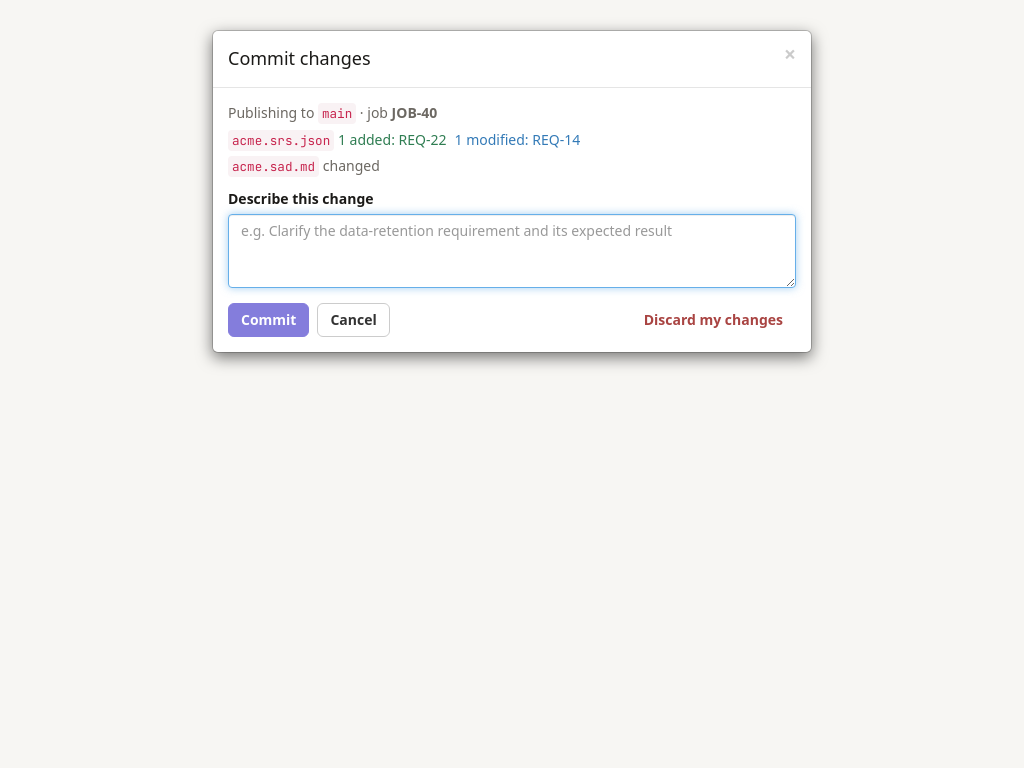
Scenario: CommitDialog — refusals (CMT-4) › shows a plain refusal message when there is no gate detail
Replace the text in the text box labelled "Describe this change" with "x" at {"x": 512, "y": 252}, box x1=228 y1=214 x2=796 y2=288
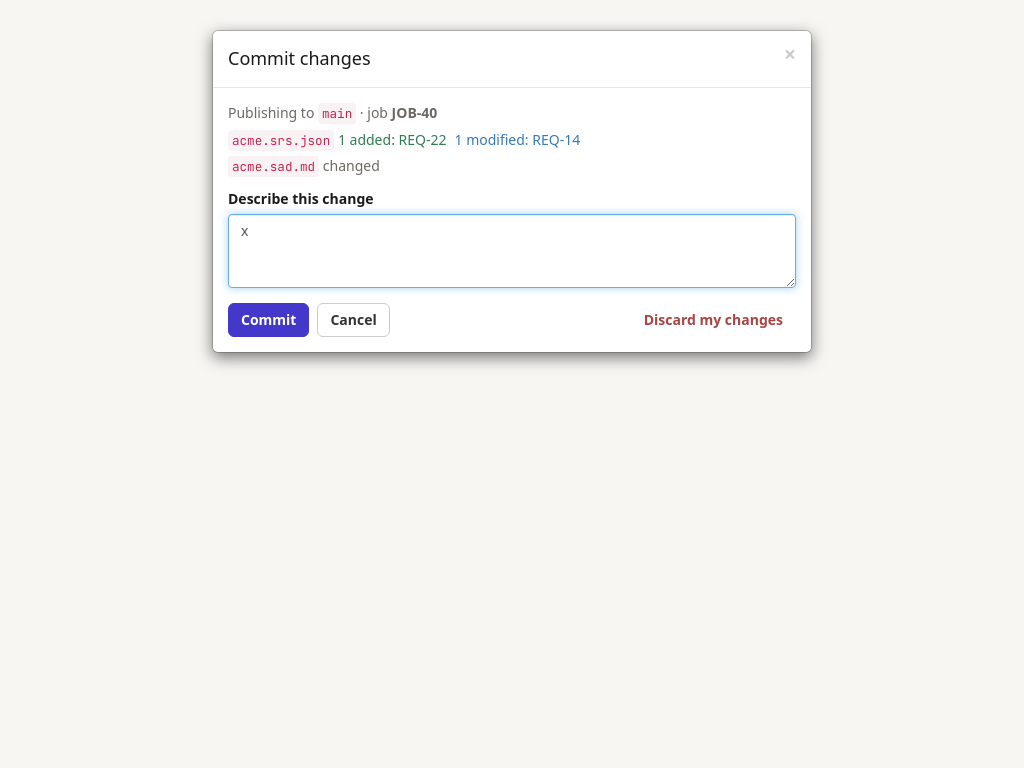
Click the button "Commit" at {"x": 269, "y": 320}, box x1=228 y1=304 x2=309 y2=338
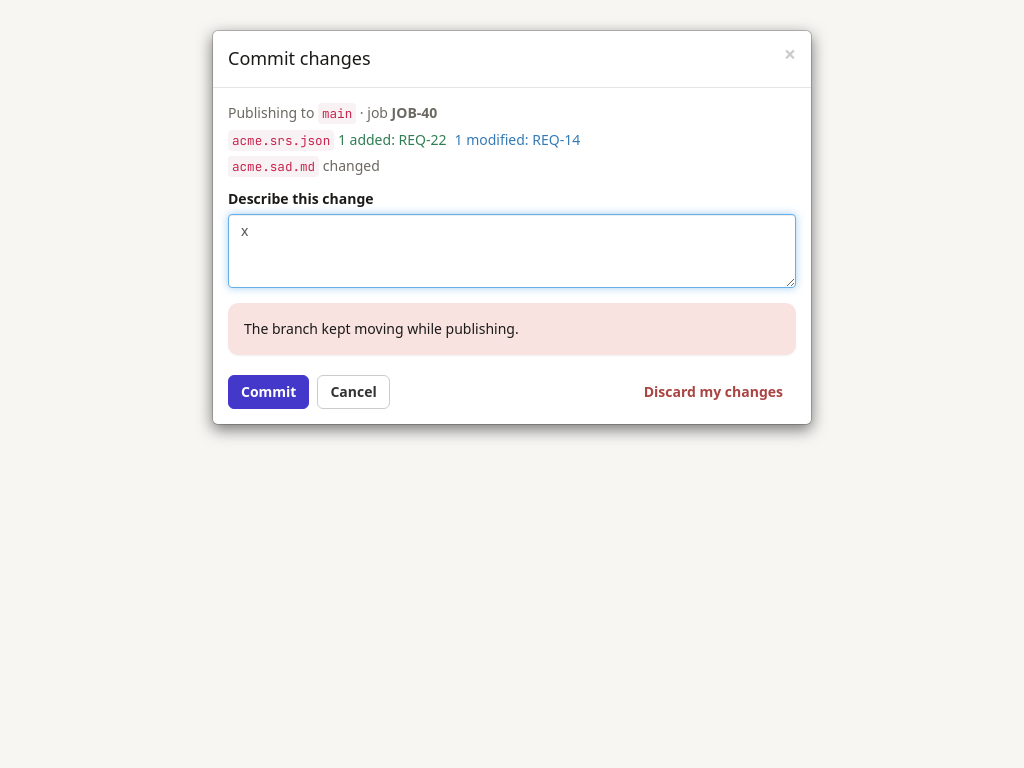
expect the text "The branch kept moving while publishing." is shown: met, box x1=228 y1=304 x2=796 y2=356
